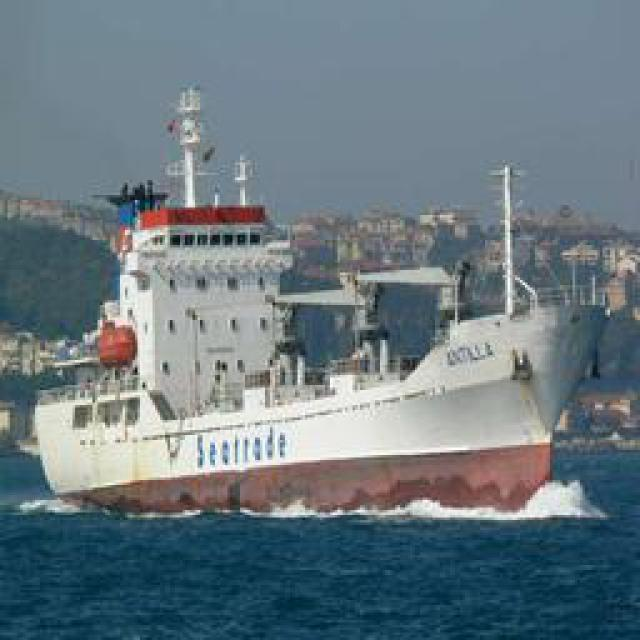Ship: (31, 106, 586, 511)
